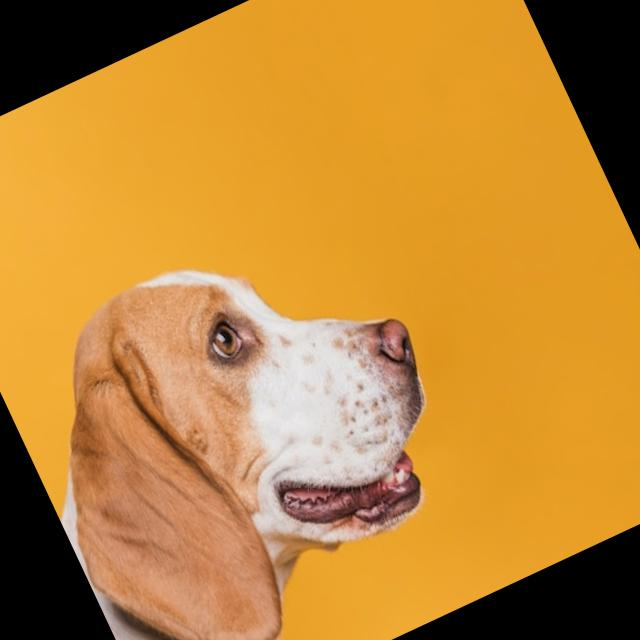Dog: (0, 188, 525, 640)
